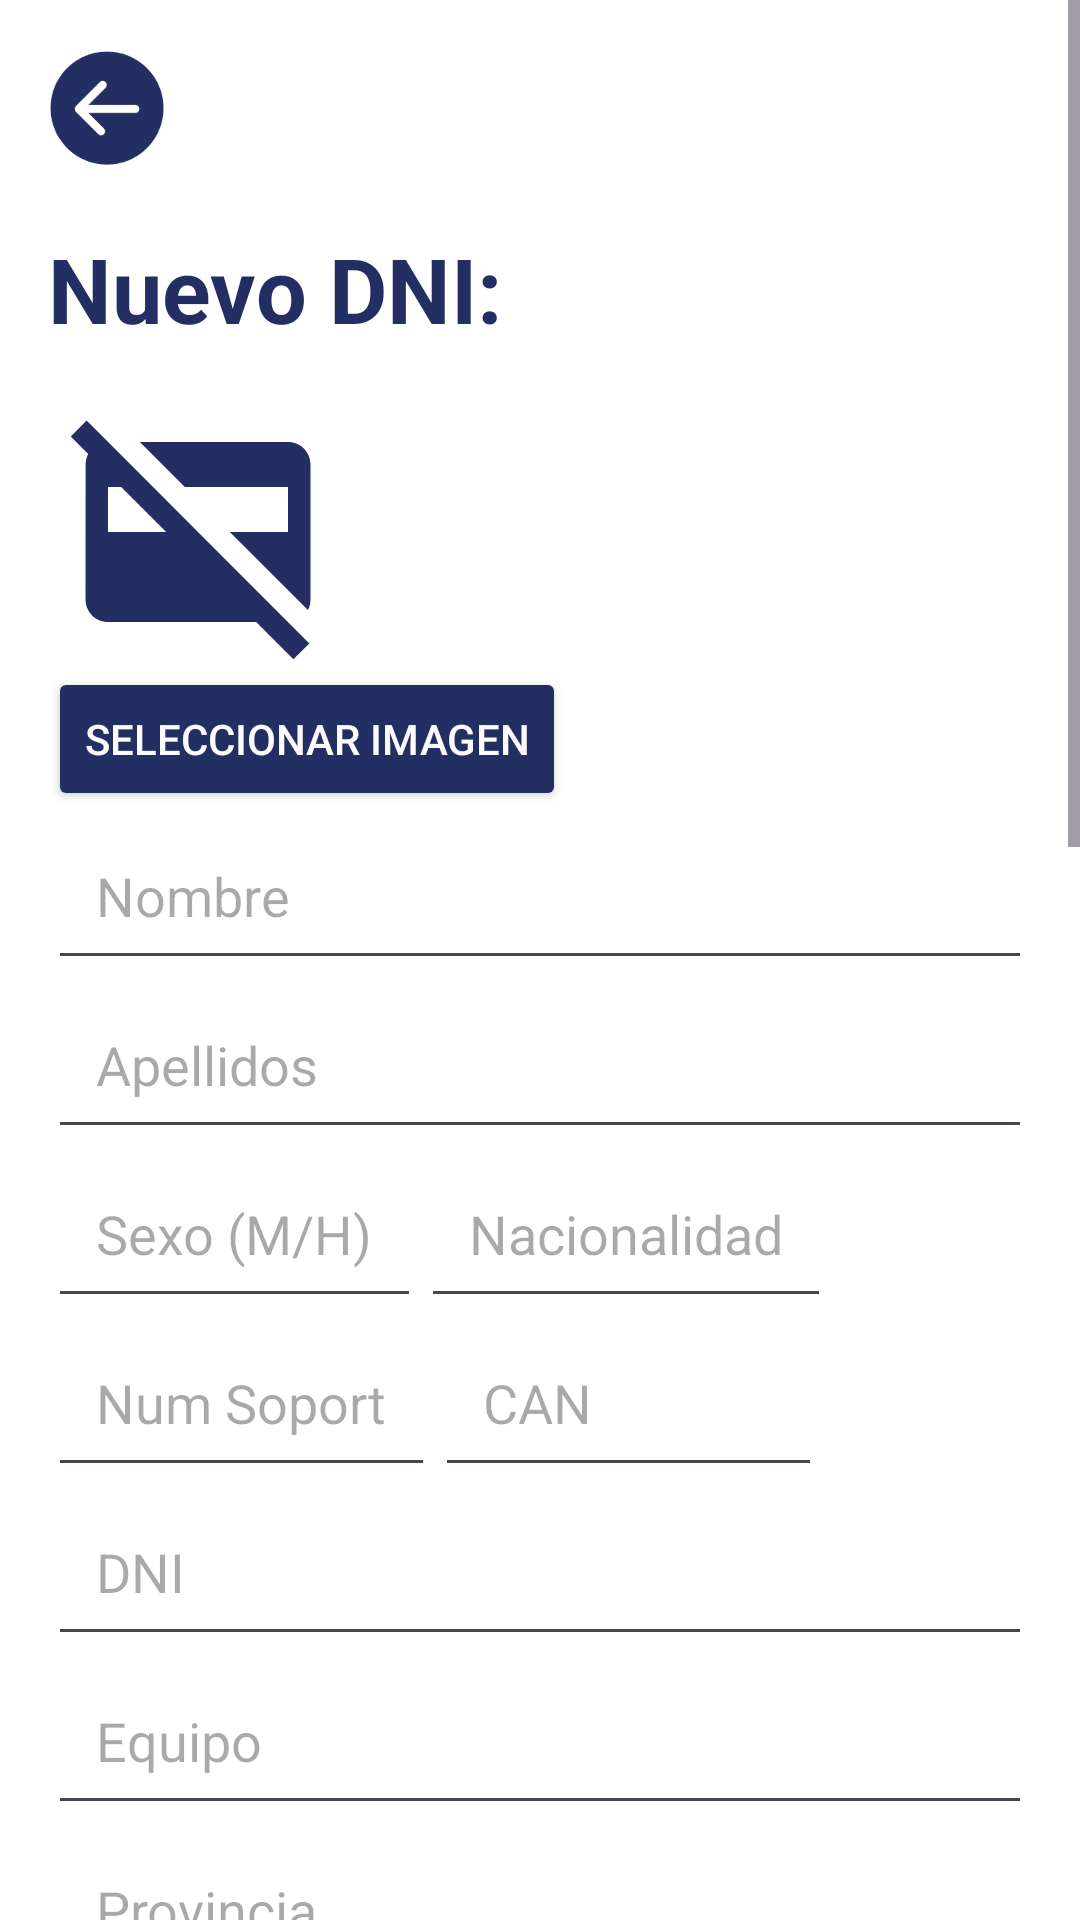

Point at icon controls on the screen. Image size 1080w x 1920h, points as (x,y).
credit card off: (191,539)
goback: (107,108)
